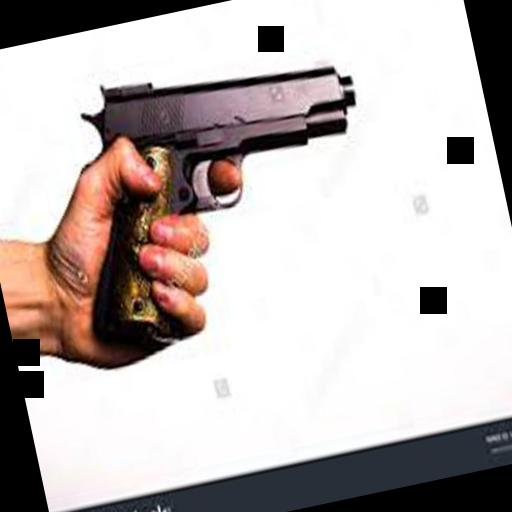Handgun: (48, 26, 400, 360)
